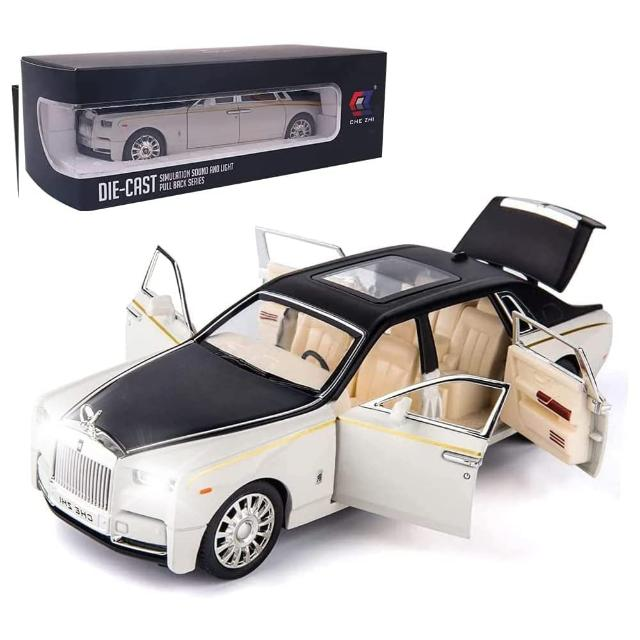rolls-royce: (30, 195, 614, 580)
